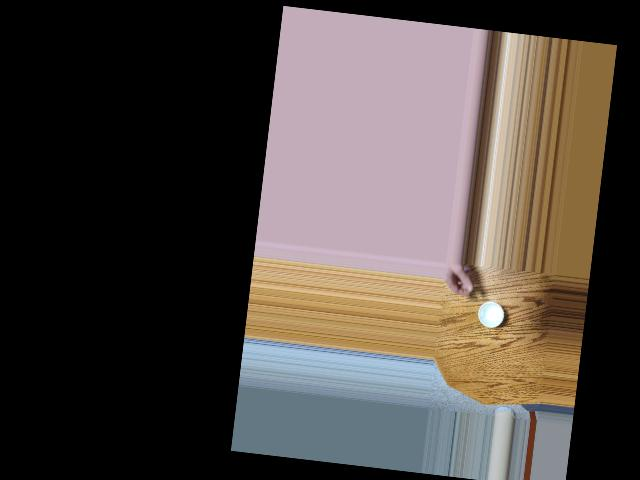cotage: (473, 295, 505, 331)
